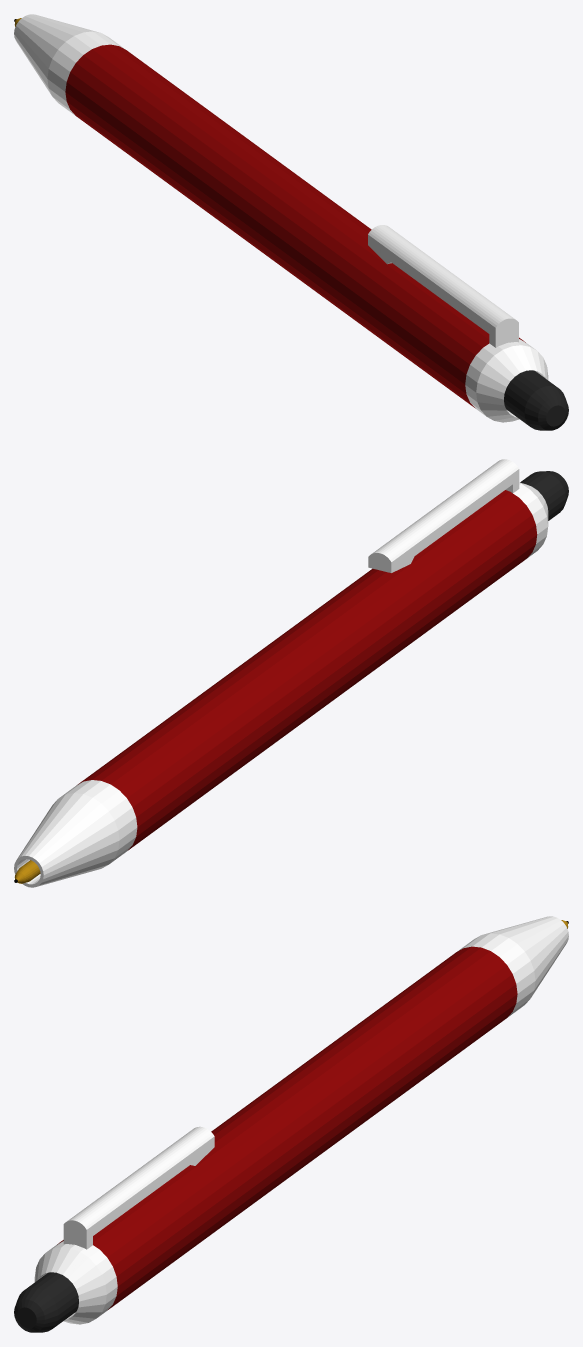
The picture shows the model from 3 angles, top to bottom: view 1: azimuth 30°, elevation 25°; view 2: azimuth 150°, elevation 25°; view 3: azimuth 330°, elevation 25°; orthographic projection.
Parts seen in each view (by area): view 1: pen; view 2: pen; view 3: pen.
Boxes of the visible parts, x1,y1,x2,y2 form: pen: (14,14,568,430); pen: (14,459,568,887); pen: (14,916,568,1332).
Bounding box in the file's own units: 65.47 × 86.35 × 850.
